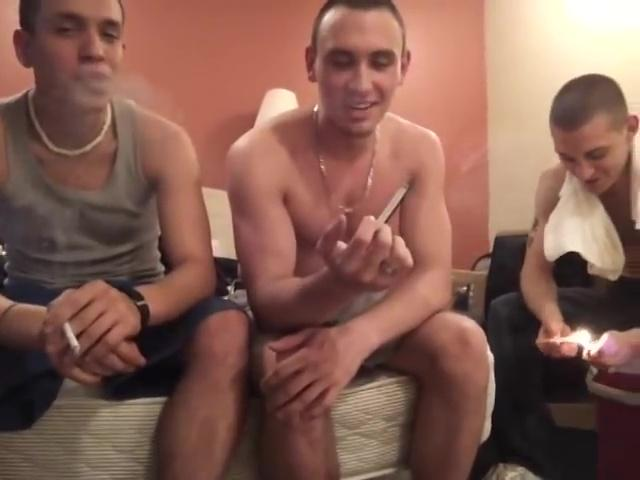cigarette: (375, 183, 411, 229), (60, 316, 81, 351), (536, 332, 593, 342)
